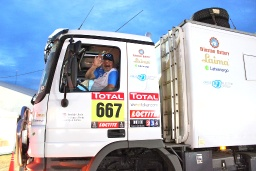person: (90, 51, 116, 92)
truck: (16, 2, 256, 171)
